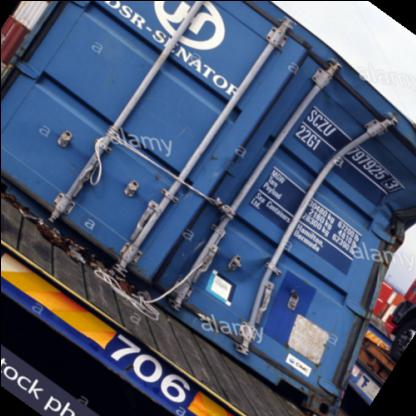Damage: (204, 66, 414, 364)
